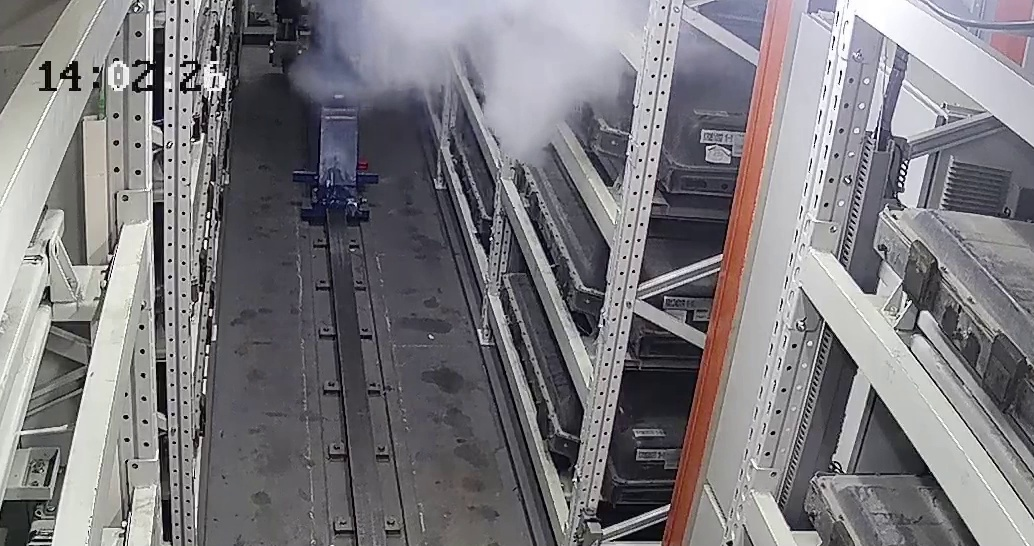smoke: (319, 3, 644, 123)
